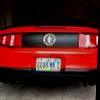License_Plate: (36, 58, 61, 70)
